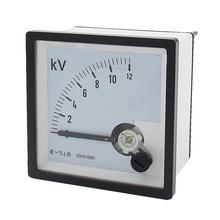pointer: (35, 40, 168, 192)
